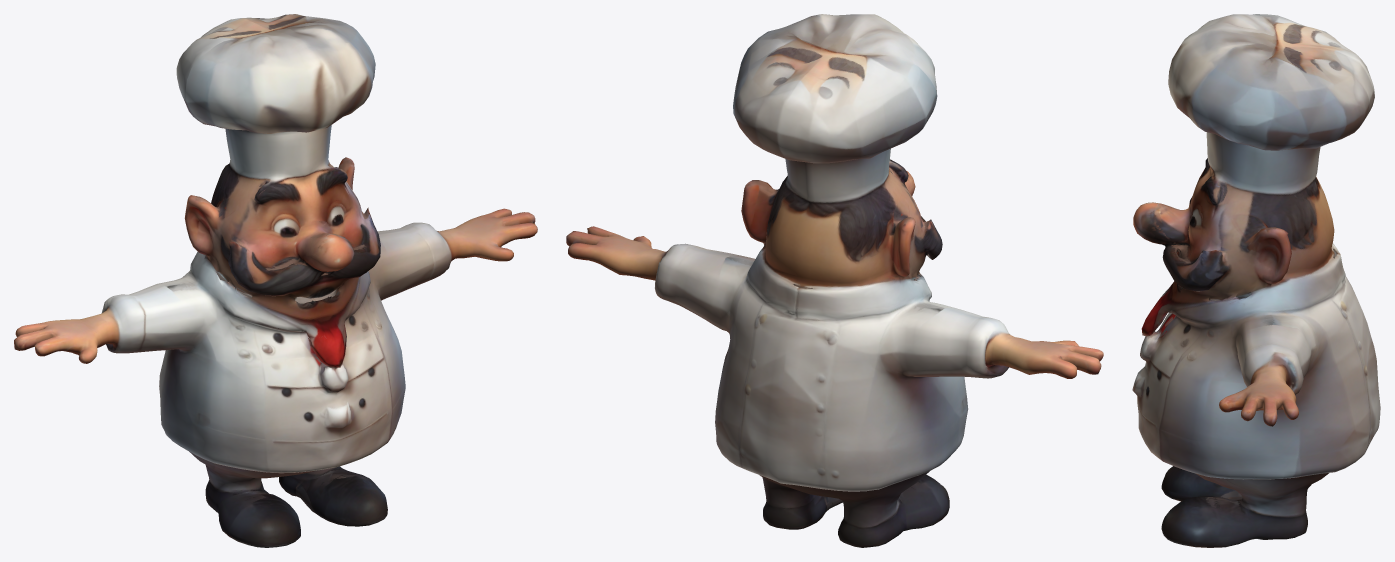
The model's file is italian_cute_chef_low_0107090413_texture.fbx.
3 renders of one model, left to right at view 1: azimuth 30°, elevation 25°; view 2: azimuth 150°, elevation 25°; view 3: azimuth 270°, elevation 25°, orthographic. The views are drawn at different scales.
Visible parts, largest first — view 1: Mesh1_Mesh1.022; view 2: Mesh1_Mesh1.022; view 3: Mesh1_Mesh1.022.
Boxes of the visible parts, x1,y1,x2,y2 form: Mesh1_Mesh1.022: (14,14,537,547); Mesh1_Mesh1.022: (566,14,1103,547); Mesh1_Mesh1.022: (1132,14,1380,547).
Size of the model in its own units: 198 by 174 by 81.29.
1 material, 1 textured.
